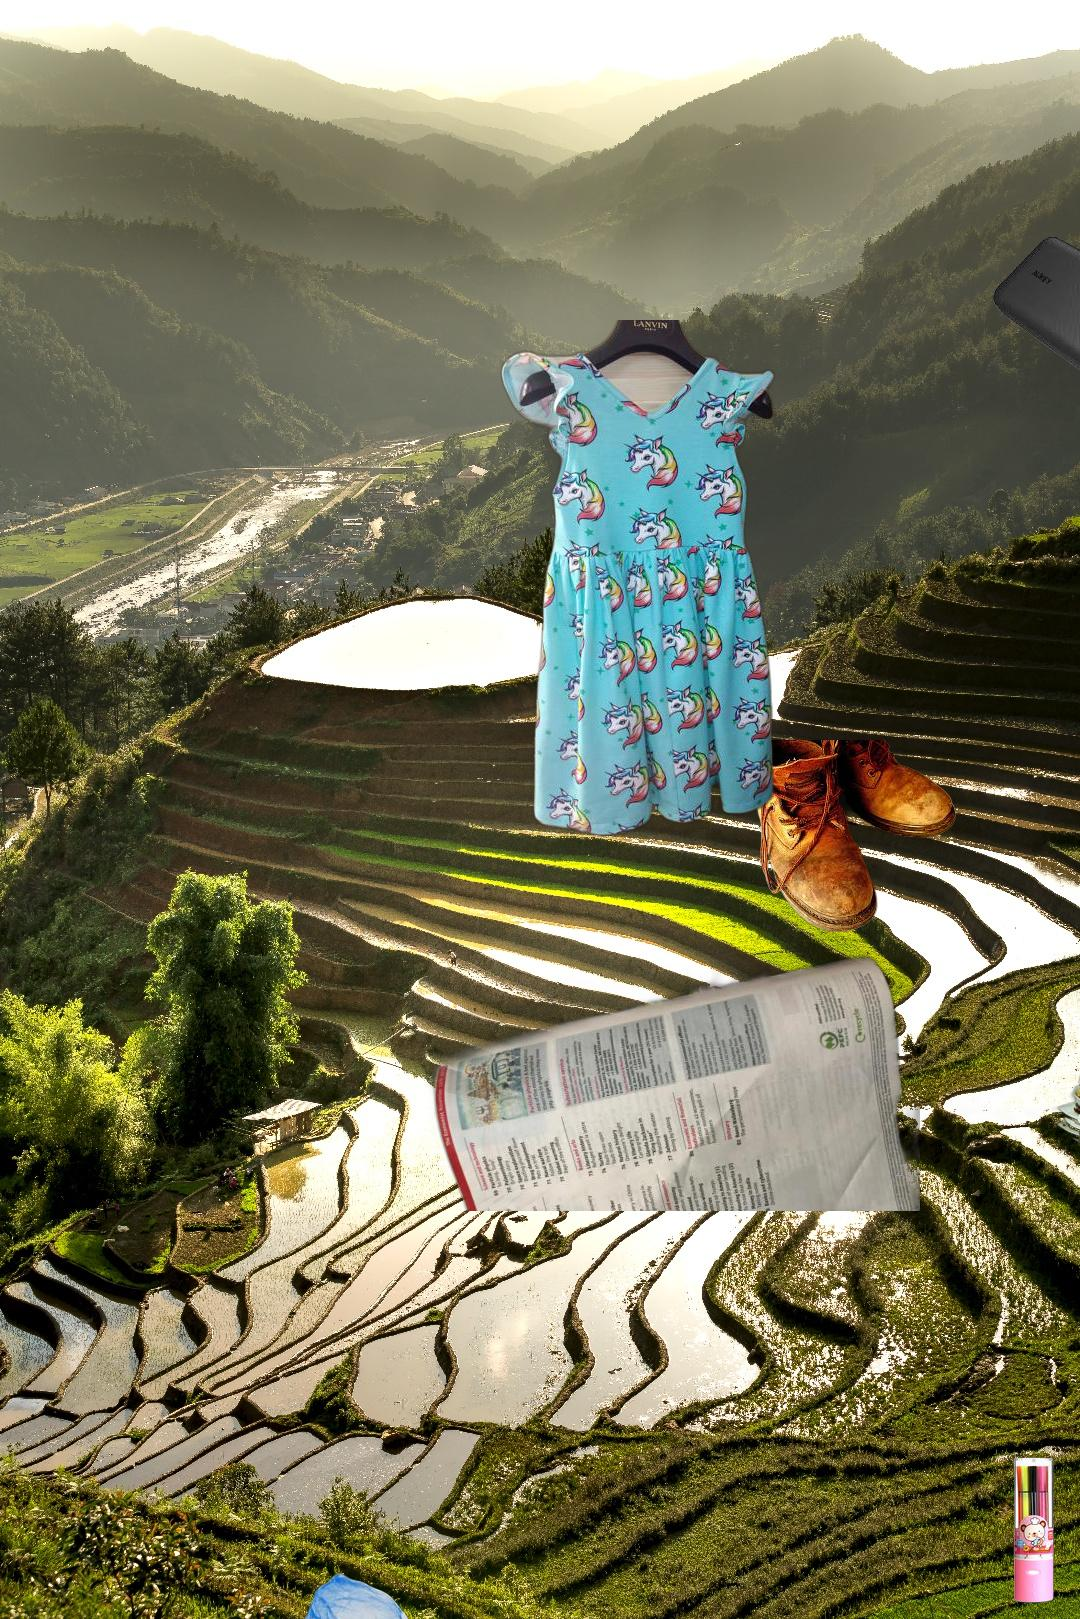battery: (990, 233, 1080, 403)
biological: (925, 1032, 1080, 1251)
clothes: (497, 319, 777, 840)
paper: (424, 892, 920, 1212)
penholder: (1011, 1455, 1057, 1606)
plastic-bag: (299, 1572, 425, 1619)
shoes: (741, 740, 958, 935), (1076, 1019, 1080, 1102)
